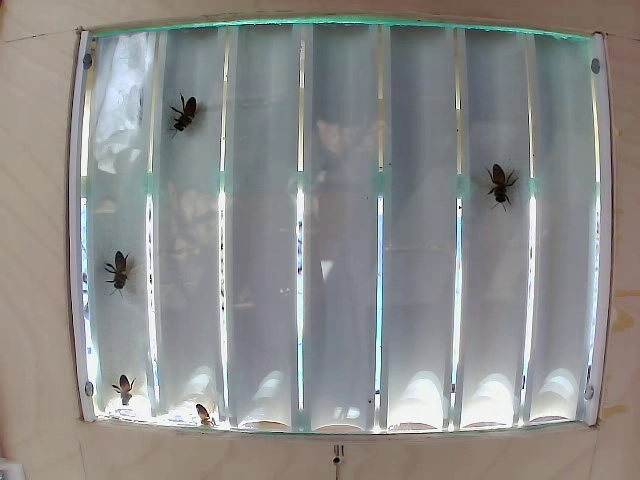bee: (92, 242, 151, 306), (156, 86, 204, 143), (482, 158, 521, 211)
